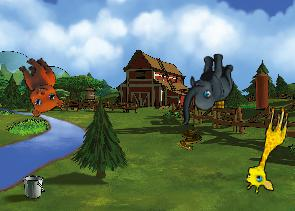bear: (5, 51, 71, 122)
elephant: (176, 52, 236, 125)
giraffe: (242, 102, 291, 196)
